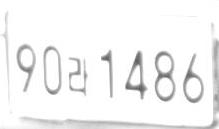0: (42, 45, 62, 95)
1: (98, 49, 119, 97)
4: (124, 50, 147, 99)
6: (182, 53, 204, 103)
8: (154, 50, 176, 102)
9: (16, 44, 36, 91)
라: (68, 56, 88, 96)
